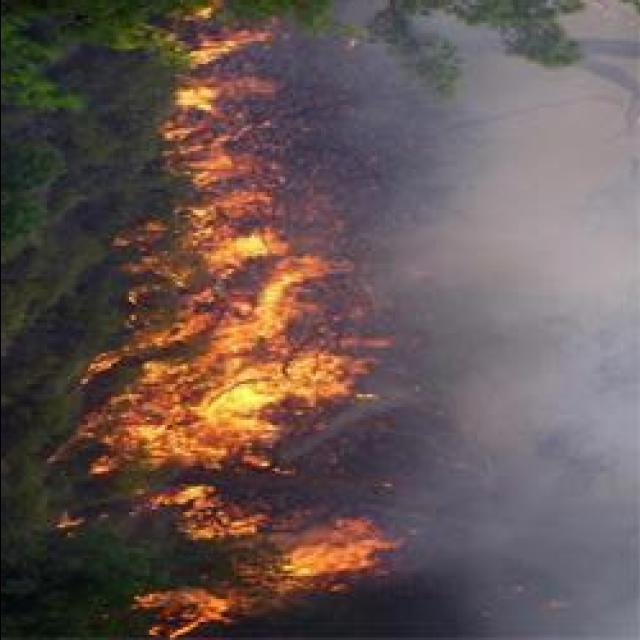fire: (86, 244, 366, 484), (172, 15, 287, 256), (285, 512, 397, 578)
smoke: (356, 116, 568, 297), (540, 87, 636, 409), (389, 465, 508, 579)
